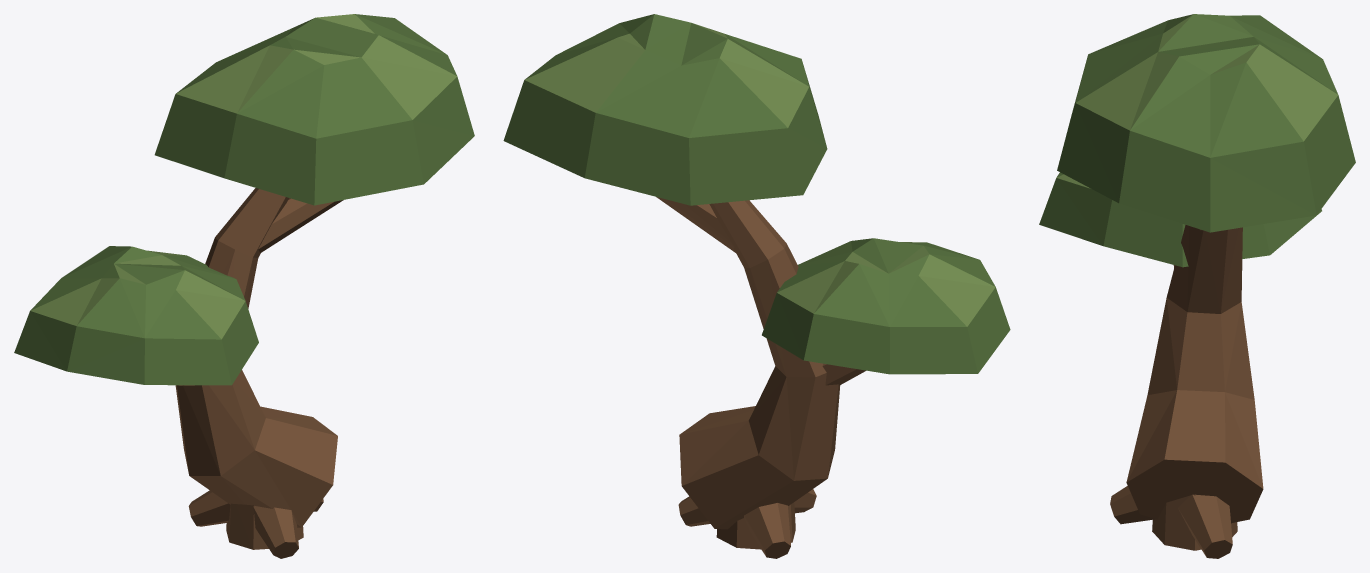
File: bonsai_b.obj
The picture shows the model from 3 angles, left to right: view 1: azimuth 30°, elevation 25°; view 2: azimuth 150°, elevation 25°; view 3: azimuth 270°, elevation 25°; orthographic projection. The views are drawn at different scales.
Parts seen in each view (by area): view 1: bonsai_b; view 2: bonsai_b; view 3: bonsai_b.
Part boxes in pixels (bbox=[...]): bonsai_b: bbox=[14, 14, 474, 558]; bonsai_b: bbox=[503, 14, 1010, 558]; bonsai_b: bbox=[1039, 14, 1355, 558].
Size of the model in its own units: 0.9261 by 0.9612 by 0.5178.
